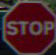Stop: (4, 7, 55, 50)
